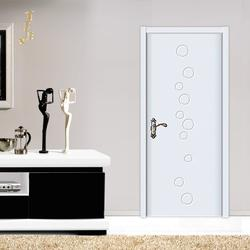door: (139, 26, 228, 219)
